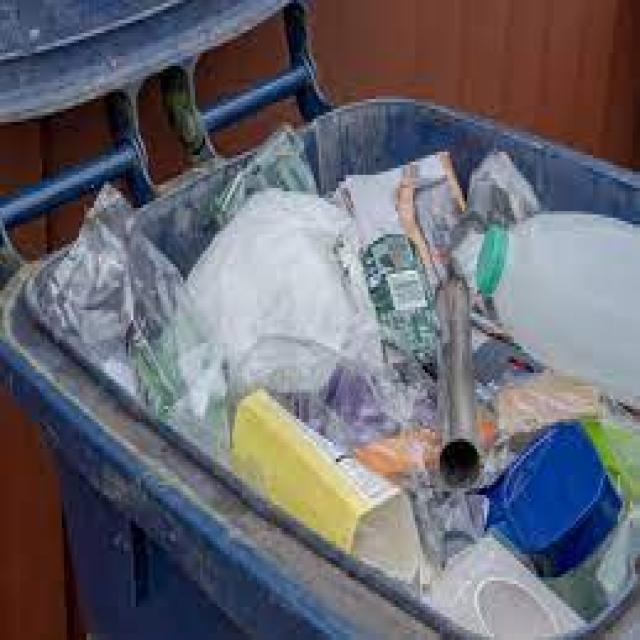metal: (237, 409, 465, 571), (423, 260, 494, 502)
plastic: (146, 162, 390, 409), (482, 185, 640, 386), (506, 419, 640, 594)
